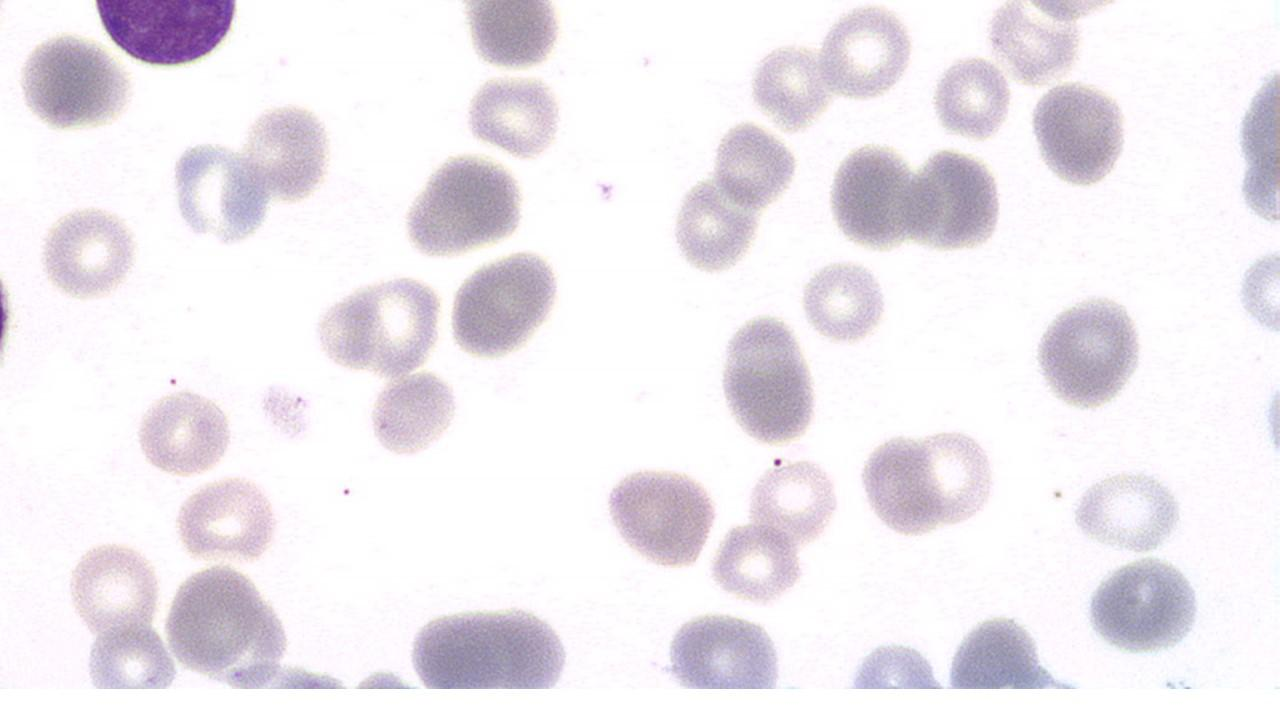RBC: (158, 562, 290, 690), (400, 596, 576, 686), (714, 307, 820, 447), (1029, 290, 1149, 410), (598, 461, 720, 569), (444, 248, 559, 362), (1079, 551, 1201, 658), (164, 136, 267, 250), (16, 32, 130, 135), (1026, 77, 1130, 188), (1028, 78, 1128, 189), (1068, 464, 1188, 556), (62, 538, 162, 644), (35, 202, 143, 300), (656, 610, 787, 688), (815, 3, 916, 101), (857, 428, 946, 539), (940, 610, 1071, 684), (826, 141, 914, 251), (911, 146, 1000, 254), (175, 474, 282, 563), (910, 423, 998, 530), (243, 98, 333, 202), (130, 388, 234, 477), (461, 72, 565, 158), (357, 272, 440, 378), (669, 176, 756, 275), (744, 458, 844, 544), (366, 370, 461, 460), (798, 256, 890, 346), (706, 522, 804, 604), (748, 39, 834, 126), (711, 119, 795, 208), (460, 1, 562, 72), (932, 51, 1012, 141), (80, 620, 180, 688), (310, 287, 381, 374), (256, 374, 319, 448), (895, 164, 947, 249), (0, 220, 22, 412), (1235, 244, 1279, 338), (1234, 150, 1280, 232), (1259, 368, 1280, 472)
WBC: (90, 1, 244, 71)
